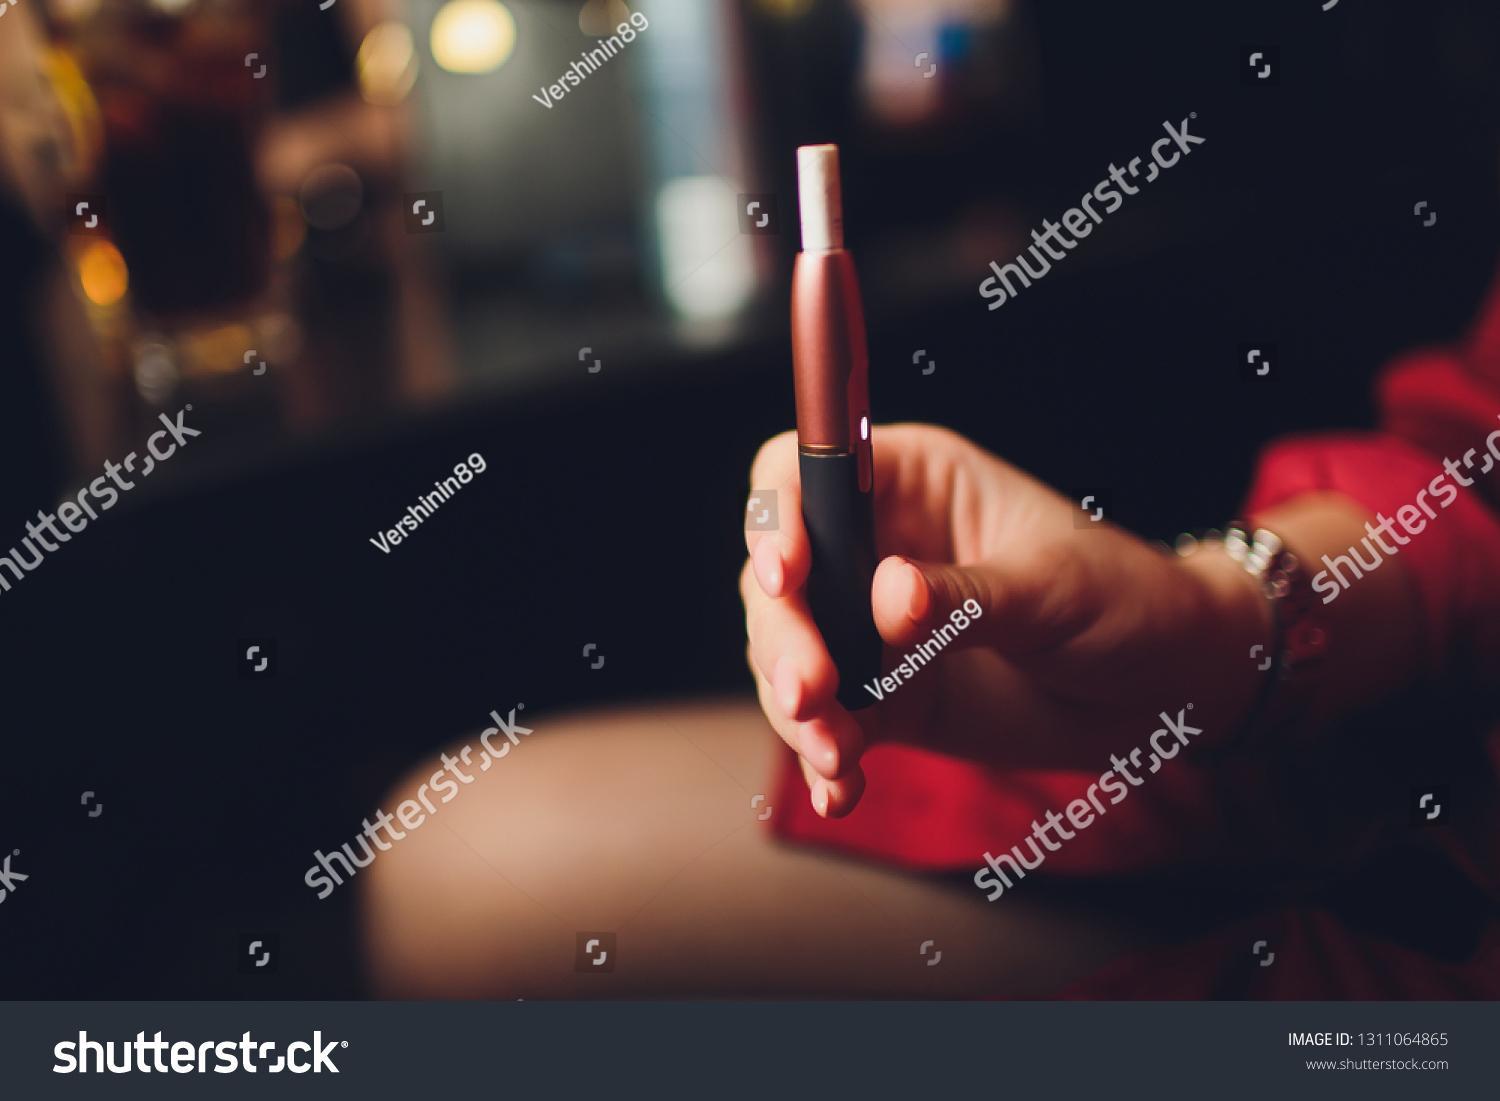iqos: (792, 144, 879, 706)
